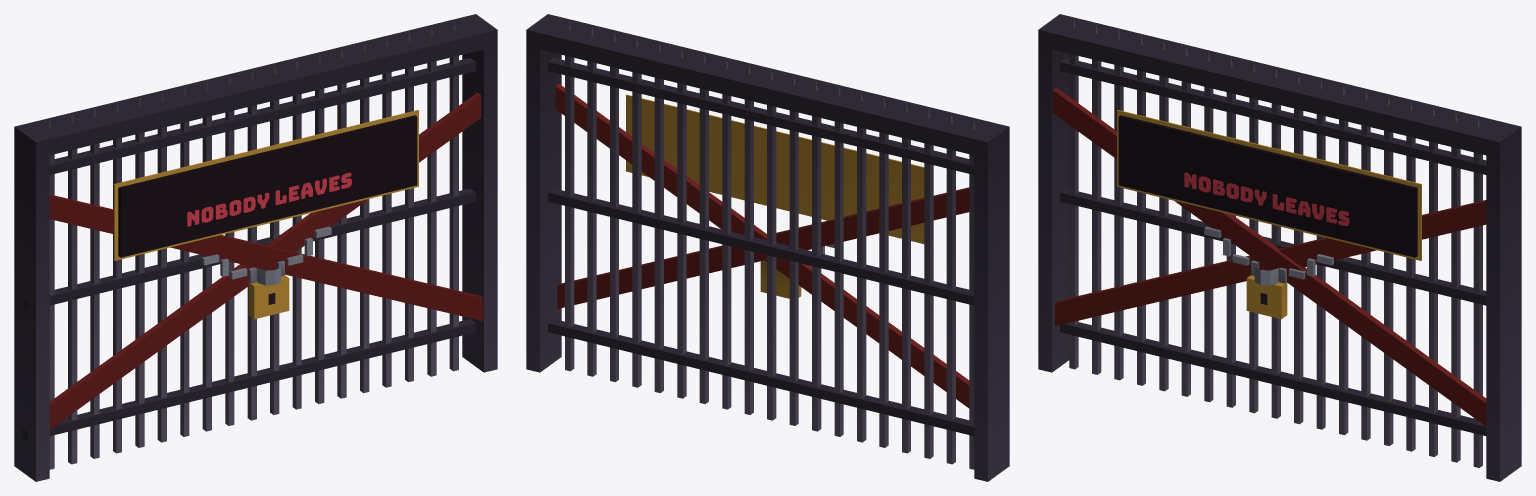
The model's file is cc_gate_big.glb.
3 renders of one model, left to right at view 1: azimuth 30°, elevation 25°; view 2: azimuth 150°, elevation 25°; view 3: azimuth 330°, elevation 25°, orthographic.
Parts seen in each view (by area): view 1: cc_gate_big; view 2: cc_gate_big; view 3: cc_gate_big.
Part boxes in pixels (<box>): cc_gate_big: <box>14,14,497,481</box>; cc_gate_big: <box>526,14,1009,481</box>; cc_gate_big: <box>1038,14,1521,481</box>.
Size of the model in its own units: 7.4 by 5.35 by 0.84.
